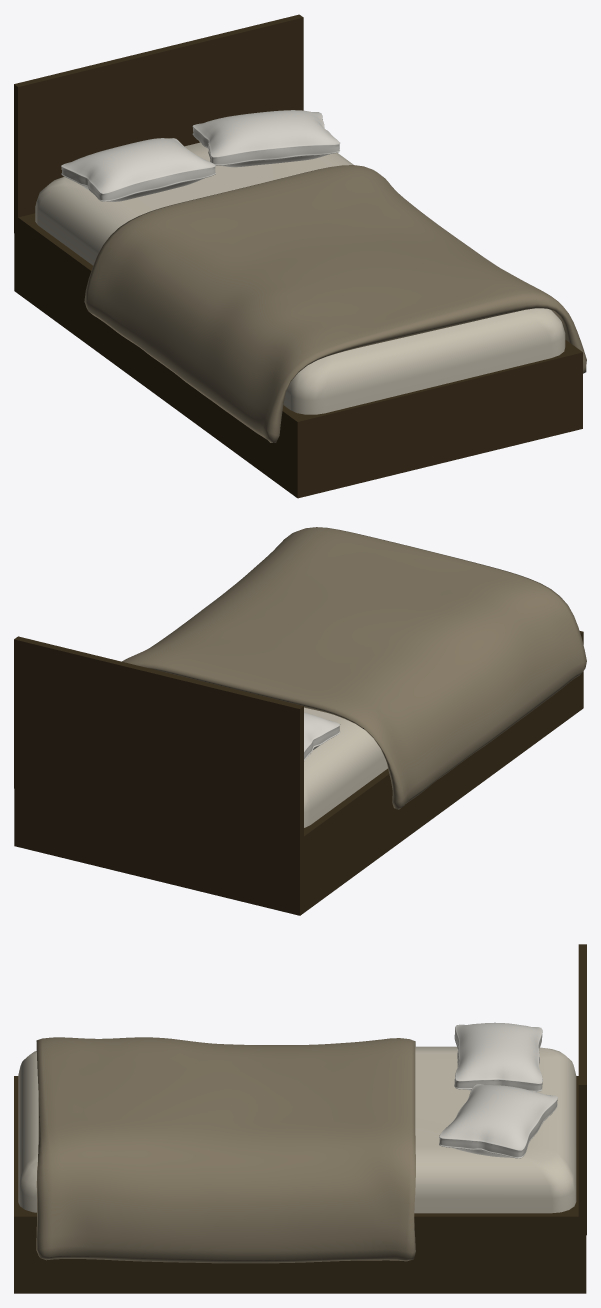
Rendered from bed.fbx.
The picture shows the model from 3 angles, top to bottom: view 1: azimuth 30°, elevation 25°; view 2: azimuth 150°, elevation 25°; view 3: azimuth 270°, elevation 25°; orthographic projection.
Visible parts, largest first — view 1: pCube6, pCube1, pCube3, pCube2, pCube7, pCube4; view 2: pCube6, pCube3, pCube1, pCube2, pCube4; view 3: pCube6, pCube1, pCube2, pCube7, pCube4, pCube3.
Boxes of the visible parts, box(x1,y1,x2,y2) form: pCube6: box(84, 165, 586, 442); pCube1: box(14, 213, 582, 498); pCube3: box(14, 14, 303, 233); pCube2: box(35, 142, 565, 414); pCube7: box(192, 110, 339, 167); pCube4: box(61, 138, 215, 201); pCube6: box(122, 527, 586, 809); pCube3: box(14, 636, 303, 858); pCube1: box(14, 631, 583, 915); pCube2: box(304, 707, 387, 827); pCube4: box(304, 712, 340, 760); pCube6: box(36, 1037, 415, 1263); pCube1: box(14, 1076, 586, 1293); pCube2: box(18, 1046, 576, 1213); pCube7: box(439, 1084, 557, 1158); pCube4: box(454, 1022, 542, 1091); pCube3: box(578, 944, 586, 1235).
Bounding box in the file's own units: 0.897 × 0.5534 × 1.38.
